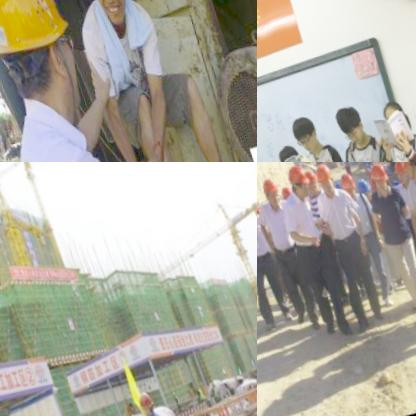head: (326, 104, 366, 149), (283, 114, 318, 158), (373, 98, 408, 141), (268, 140, 300, 162)
helmet: (0, 0, 99, 137), (64, 0, 138, 25), (279, 162, 309, 202), (307, 163, 335, 202), (362, 164, 390, 200), (257, 176, 282, 215), (349, 176, 374, 211), (331, 171, 356, 205), (385, 162, 410, 193), (298, 170, 320, 204), (127, 390, 150, 416), (394, 162, 416, 186)
